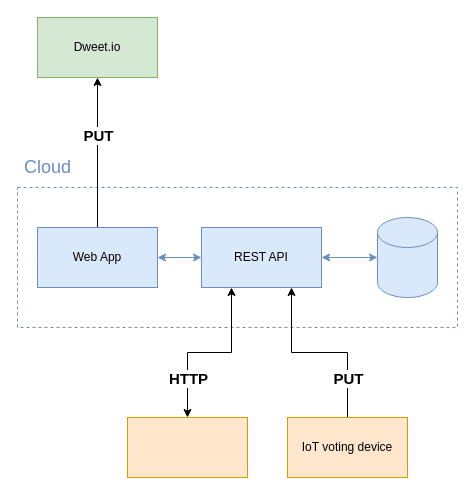
This 475x495 diagram has some shape labels left out. The centre of each missing label's shape, as x and y in pixels:
database: pixel 407 257
Web client browser: pixel 187 447
